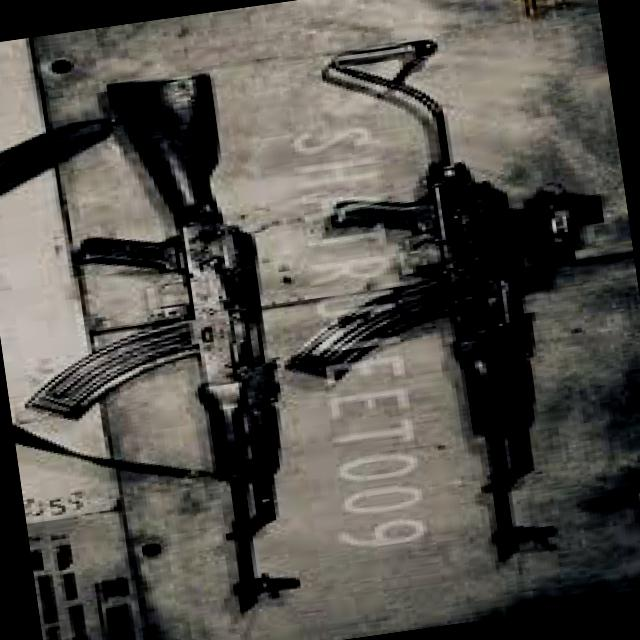long weapon: (9, 62, 334, 623), (310, 26, 634, 586)
